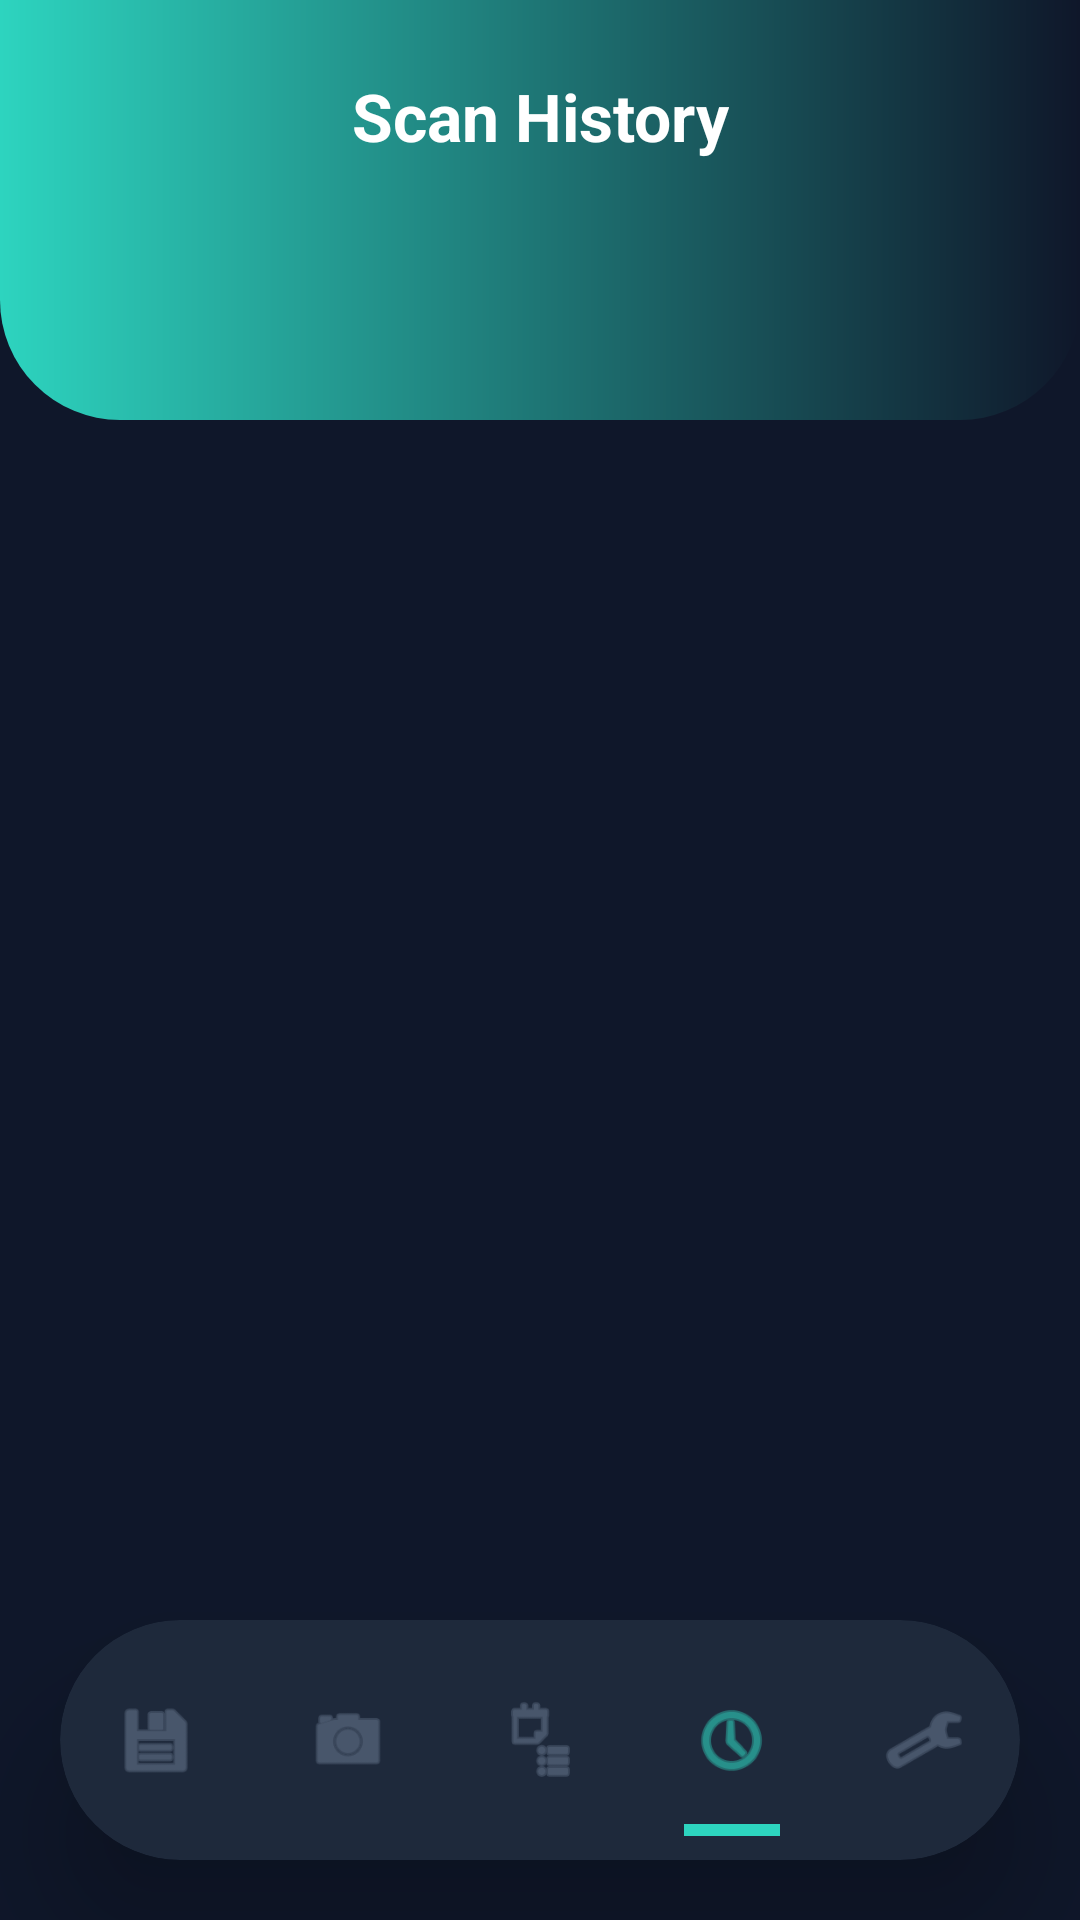

Screen size 1080 × 1920. Icon name, then its box in pixels as (x1, y1, x2, y2):
agenda: (511, 1703, 570, 1776)
camera: (316, 1714, 380, 1764)
manage: (887, 1712, 961, 1768)
recent history: (701, 1710, 762, 1771)
save: (125, 1709, 187, 1772)
